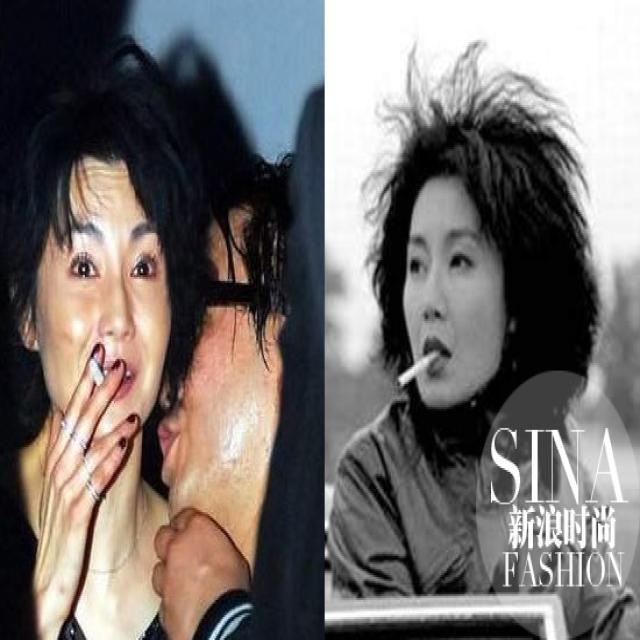rokok: (382, 333, 456, 402), (82, 346, 124, 406)
